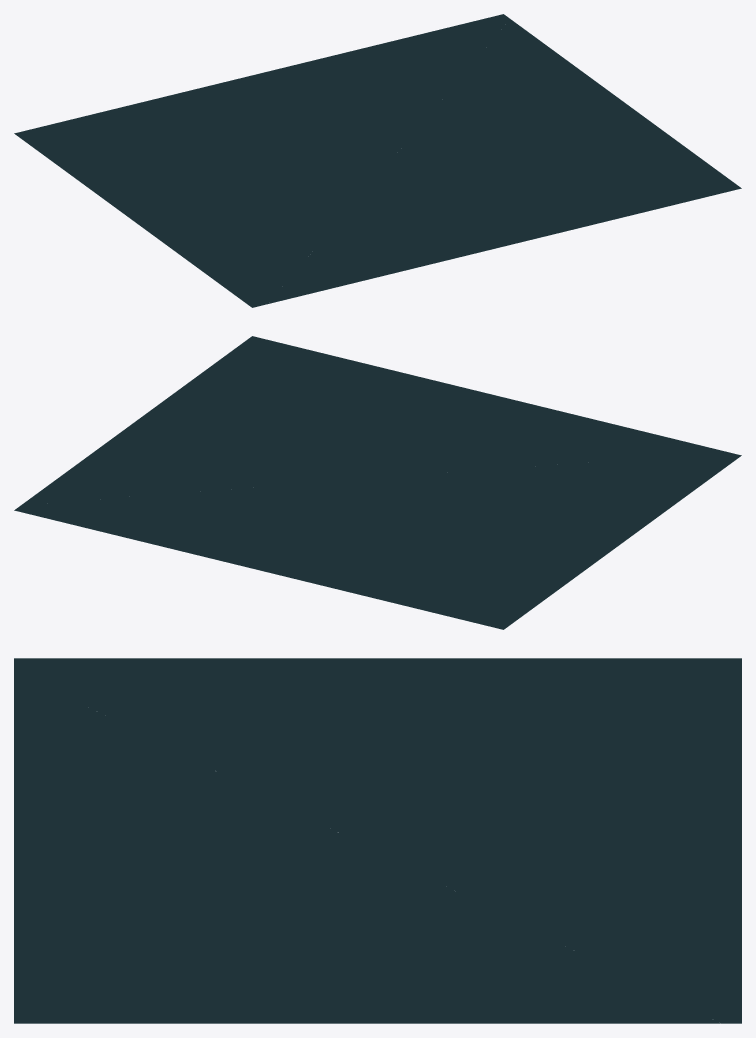
Rendered from animated_water_surface.glb.
3 views of the same model, one above another, from view 1: azimuth 30°, elevation 25°; view 2: azimuth 150°, elevation 25°; view 3: azimuth 270°, elevation 25° (orthographic). The views are drawn at different scales.
Parts seen in each view (by area): view 1: Plane003; view 2: Plane003; view 3: Plane003.
Part boxes in pixels (x1,y1,x2,y2): Plane003: (14, 14, 741, 307); Plane003: (14, 336, 741, 629); Plane003: (14, 658, 741, 1023).
Size of the model in its own units: 35 by 4.81e-06 by 29.5.
